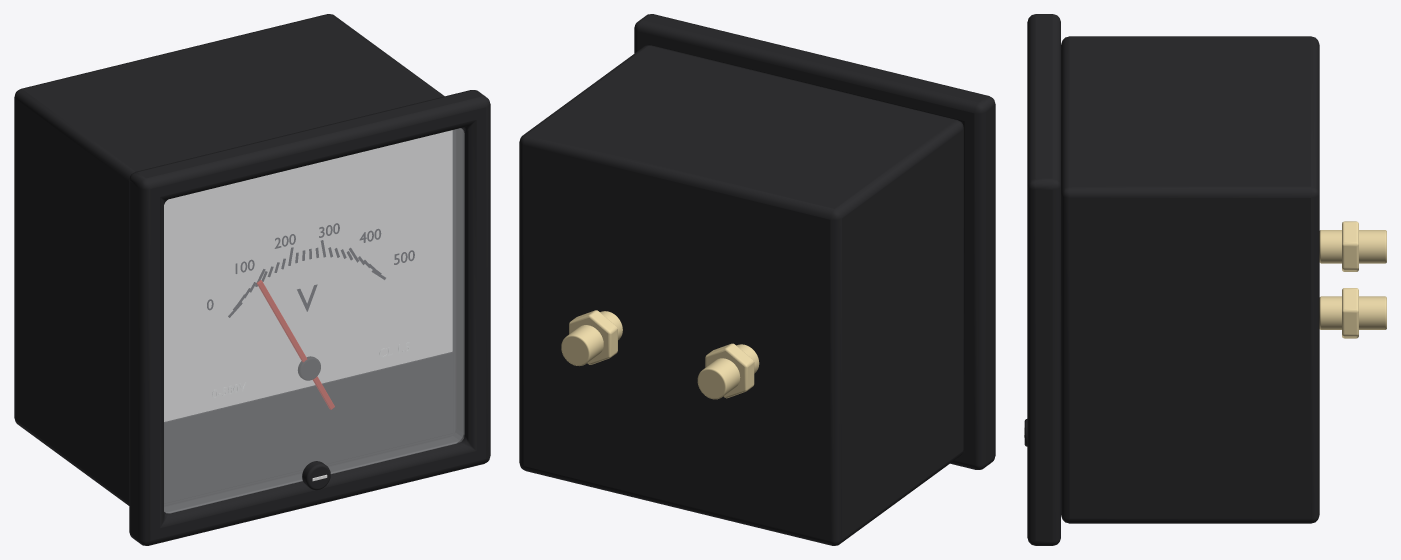
Rendered from voltmeter.glb.
The picture shows the model from 3 angles, left to right: view 1: azimuth 30°, elevation 25°; view 2: azimuth 150°, elevation 25°; view 3: azimuth 270°, elevation 25°; orthographic projection.
Parts seen in each view (by area): view 1: bezel, glass, scale, pointer, zero; view 2: bezel, terminals; view 3: bezel, terminals.
Part boxes in pixels (x1=…): bezel: x1=14, y1=14, x2=490, y2=545; glass: x1=164, y1=128, x2=464, y2=513; scale: x1=164, y1=130, x2=453, y2=503; pointer: x1=257, y1=280, x2=334, y2=409; zero: x1=302, y1=461, x2=330, y2=490; bezel: x1=519, y1=14, x2=995, y2=545; terminals: x1=561, y1=310, x2=759, y2=399; bezel: x1=1027, y1=14, x2=1319, y2=545; terminals: x1=1319, y1=221, x2=1386, y2=338.
Size of the model in its own units: 0.072 by 0.072 by 0.0646.
